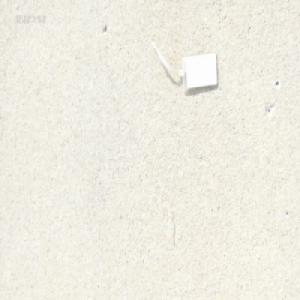LuggageTag: (148, 44, 220, 92)
